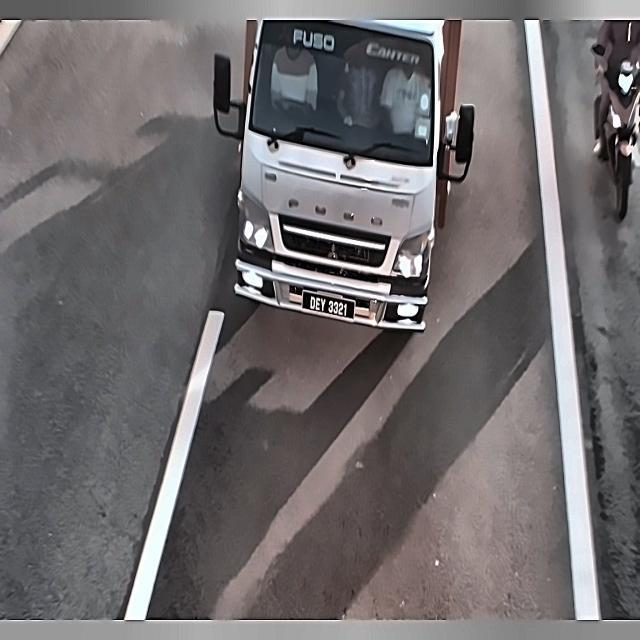car: (299, 281, 358, 329)
